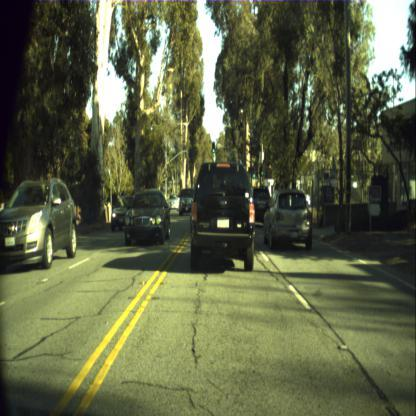Green: (252, 166, 256, 178), (260, 164, 263, 176), (212, 142, 215, 152)
